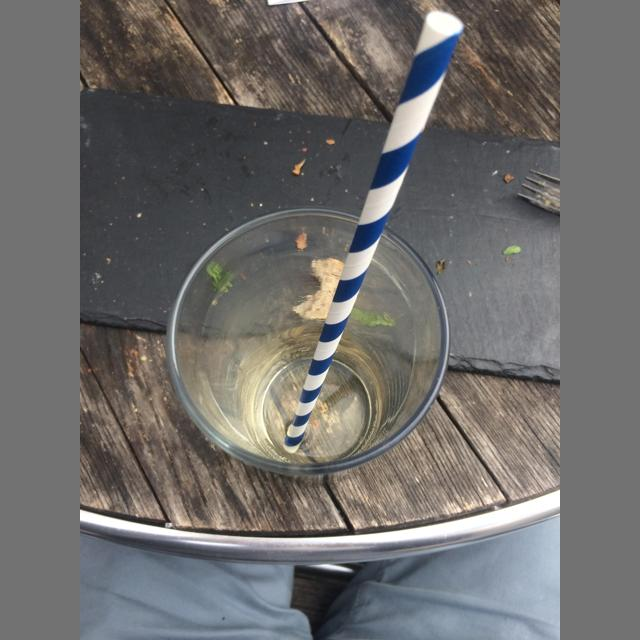litter: (284, 12, 462, 453), (166, 207, 449, 476)
